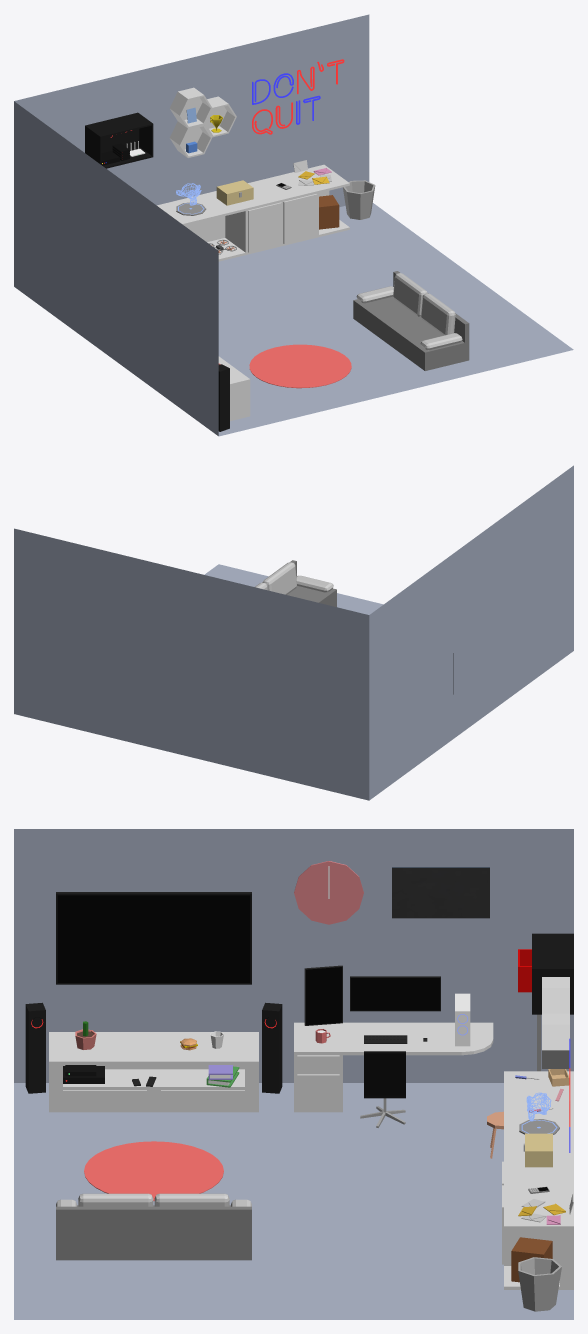
The picture shows the model from 3 angles, top to bottom: view 1: azimuth 30°, elevation 25°; view 2: azimuth 150°, elevation 25°; view 3: azimuth 270°, elevation 25°; orthographic projection. The views are drawn at different scales.
Parts seen in each view (by area): view 1: Wall, Shelf, Sofa, Carpet, WallShelf, ServerBox, .DontQuit, UnderTVShelf, Trash, Speakers, Chest, Box; view 2: Wall, Sofa; view 3: Wall, TV, UnderTVShelf, Sofa, Desk, Shelf, Carpet, WallPhoto, Speakers, Clock, Monitor, WallShelf (+9 smaller).
Boxes of the visible parts, x1,y1,x2,y2 form: Wall: [14, 14, 573, 436]; Shelf: [157, 164, 349, 261]; Sofa: [353, 271, 469, 370]; Carpet: [249, 344, 351, 388]; WallShelf: [169, 87, 236, 157]; ServerBox: [85, 112, 153, 168]; .DontQuit: [252, 59, 344, 134]; UnderTVShelf: [218, 356, 250, 421]; Trash: [343, 180, 375, 219]; Speakers: [218, 364, 229, 431]; Chest: [216, 180, 253, 205]; Box: [319, 195, 339, 229]; Wall: [14, 465, 573, 800]; Sofa: [255, 560, 336, 606]; Wall: [14, 829, 573, 1319]; TV: [56, 892, 251, 984]; UnderTVShelf: [49, 1032, 258, 1112]; Sofa: [56, 1193, 251, 1260]; Desk: [294, 1022, 493, 1112]; Shelf: [502, 1114, 573, 1289]; Carpet: [84, 1141, 223, 1200]; WallPhoto: [392, 867, 489, 918]; Speakers: [25, 1002, 282, 1093]; Clock: [294, 861, 363, 924]; Monitor: [350, 976, 440, 1011]; WallShelf: [542, 977, 569, 1068].
Size of the model in its own units: 8.01 by 4 by 8.
86 materials, 1 textured.
